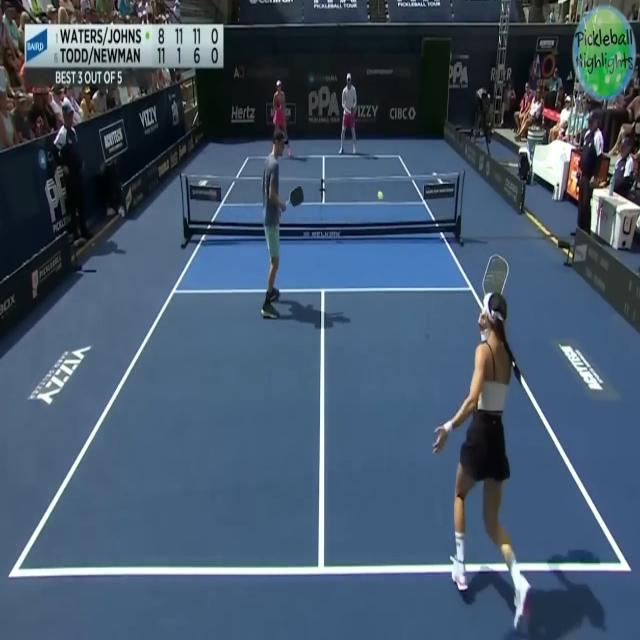Pickleball: (376, 188, 384, 202)
